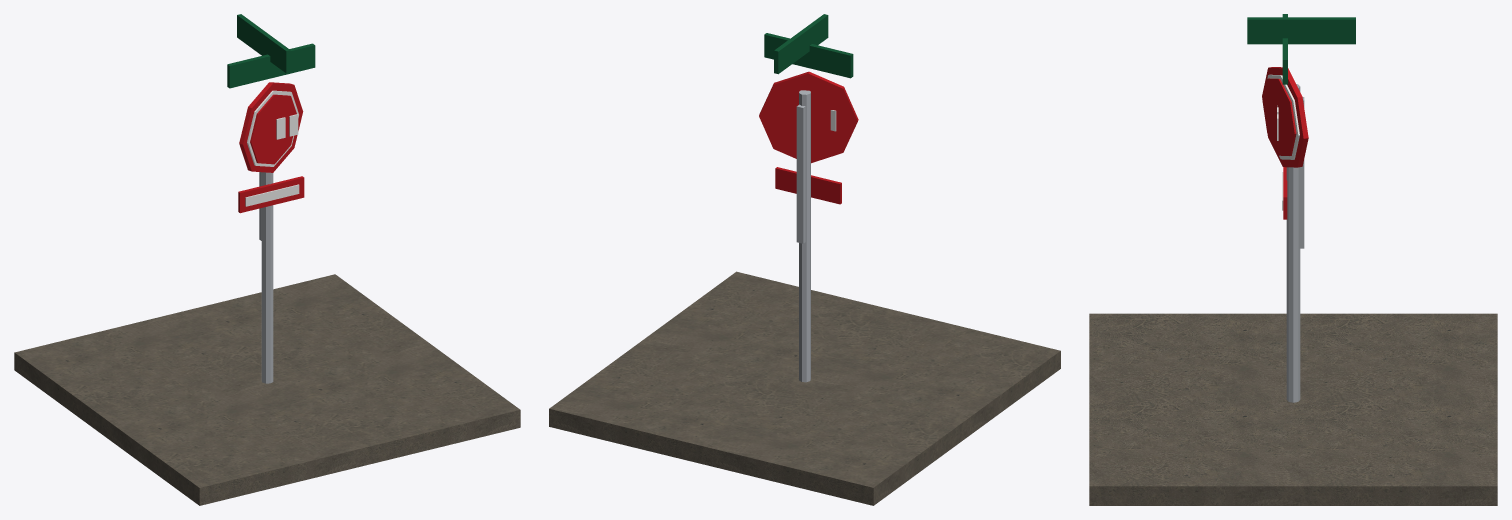
The model's file is OT_StopSign.glb.
3 views of the same model, side by side, from view 1: azimuth 30°, elevation 25°; view 2: azimuth 150°, elevation 25°; view 3: azimuth 270°, elevation 25° (orthographic). The views are drawn at different scales.
Parts seen in each view (by area): view 1: OT_StopSign_Sidewalk, OT_StopSign_StopRed__c4161d, OT_StopSign_HwyGreen__0f5a35, OT_StopSign_Galv__b4b9bf, OT_StopSign_StopText__f0f0ee; view 2: OT_StopSign_Sidewalk, OT_StopSign_StopRed__c4161d, OT_StopSign_Galv__b4b9bf, OT_StopSign_HwyGreen__0f5a35; view 3: OT_StopSign_Sidewalk, OT_StopSign_Galv__b4b9bf, OT_StopSign_StopRed__c4161d, OT_StopSign_HwyGreen__0f5a35.
Boxes of the visible parts, bbox=[...] form: OT_StopSign_Sidewalk: bbox=[14, 274, 520, 505]; OT_StopSign_StopRed__c4161d: bbox=[238, 82, 304, 213]; OT_StopSign_HwyGreen__0f5a35: bbox=[227, 14, 315, 88]; OT_StopSign_Galv__b4b9bf: bbox=[259, 172, 273, 383]; OT_StopSign_StopText__f0f0ee: bbox=[245, 114, 299, 206]; OT_StopSign_Sidewalk: bbox=[549, 271, 1060, 505]; OT_StopSign_StopRed__c4161d: bbox=[759, 71, 858, 204]; OT_StopSign_Galv__b4b9bf: bbox=[796, 90, 810, 382]; OT_StopSign_HwyGreen__0f5a35: bbox=[764, 14, 853, 78]; OT_StopSign_Sidewalk: bbox=[1089, 313, 1497, 505]; OT_StopSign_Galv__b4b9bf: bbox=[1286, 84, 1304, 402]; OT_StopSign_StopRed__c4161d: bbox=[1262, 67, 1308, 219]; OT_StopSign_HwyGreen__0f5a35: bbox=[1247, 14, 1355, 84].
Size of the model in its own units: 3 by 3.25 by 3.
Materials: 6 (1 with a texture image).
